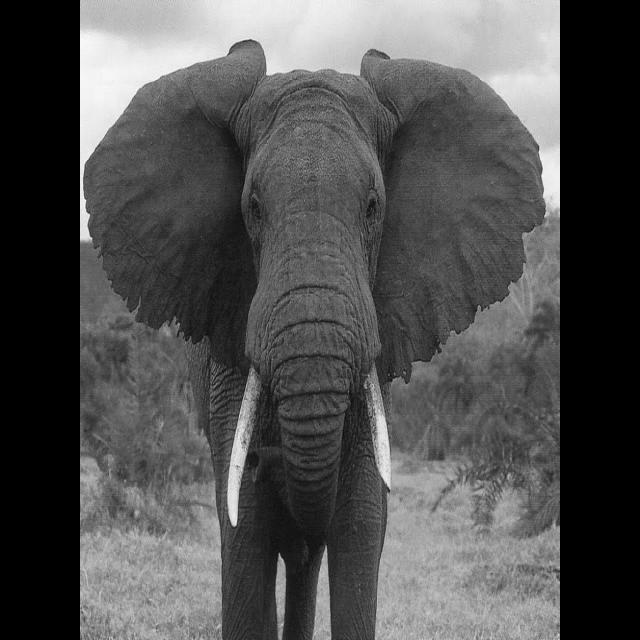Elephant: (82, 37, 546, 638)
